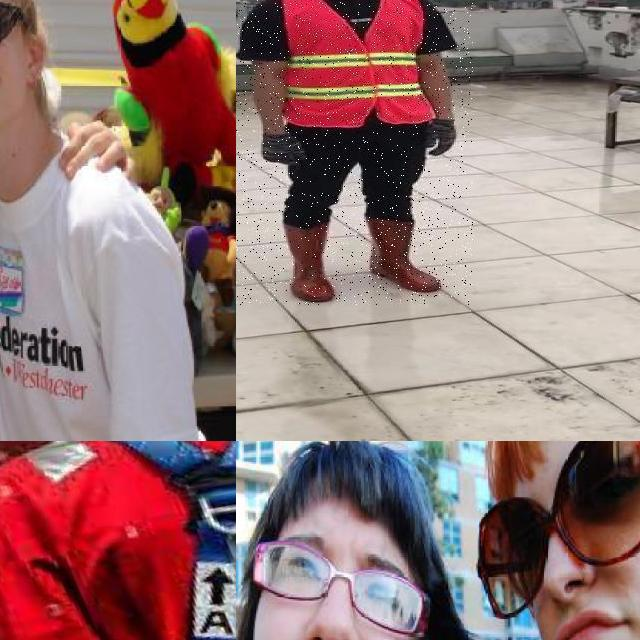Harness: (108, 441, 236, 640)
boots: (369, 214, 447, 296), (275, 222, 336, 304)
face_nomask: (483, 465, 640, 640), (266, 545, 413, 640)
glasses: (470, 441, 640, 612), (243, 538, 436, 638), (0, 1, 25, 73)
hand_noglove: (59, 118, 132, 190)
head_nohelmet: (256, 442, 430, 530)
person: (0, 0, 200, 441), (236, 0, 473, 305), (236, 441, 434, 640), (447, 441, 640, 640)
vest: (277, 0, 439, 128)
